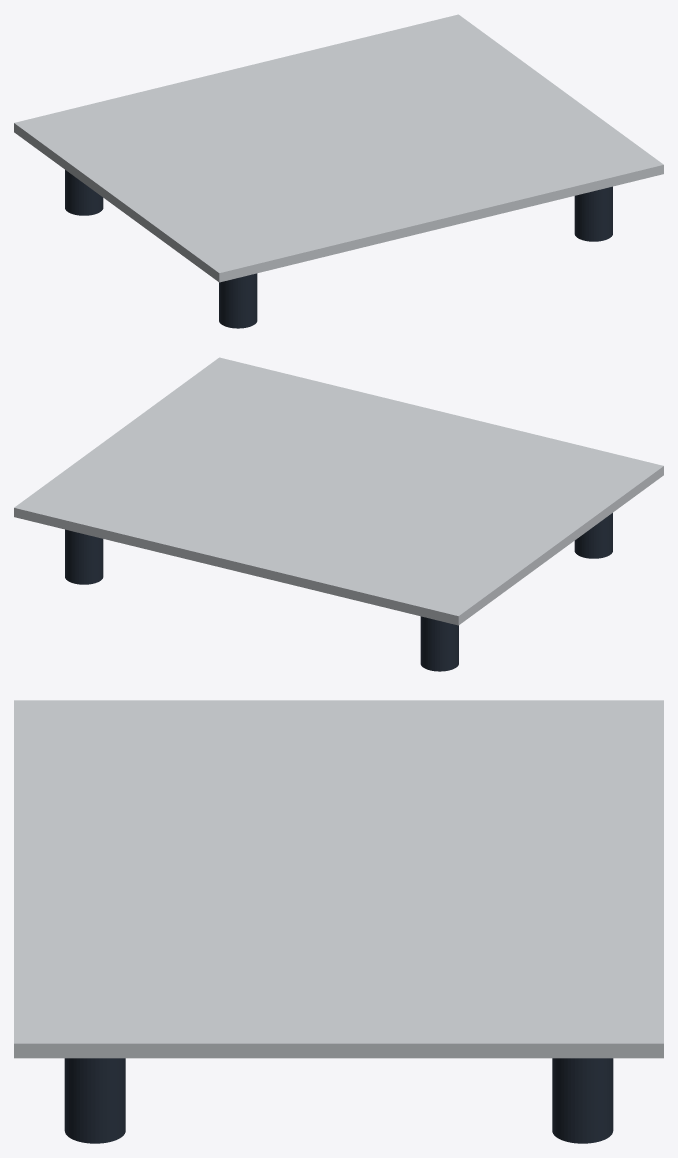
Rendered from platform_link.dae.
3 renders of one model, top to bottom at view 1: azimuth 30°, elevation 25°; view 2: azimuth 150°, elevation 25°; view 3: azimuth 270°, elevation 25°, orthographic. The views are drawn at different scales.
Visible parts, largest first — view 1: mesh; view 2: mesh; view 3: mesh.
Part boxes in pixels (x1,y1,x2,y2): mesh: [14, 14, 663, 328]; mesh: [14, 357, 663, 671]; mesh: [14, 700, 663, 1143].
Size of the model in its own units: 0.4 by 0.32 by 0.066.
